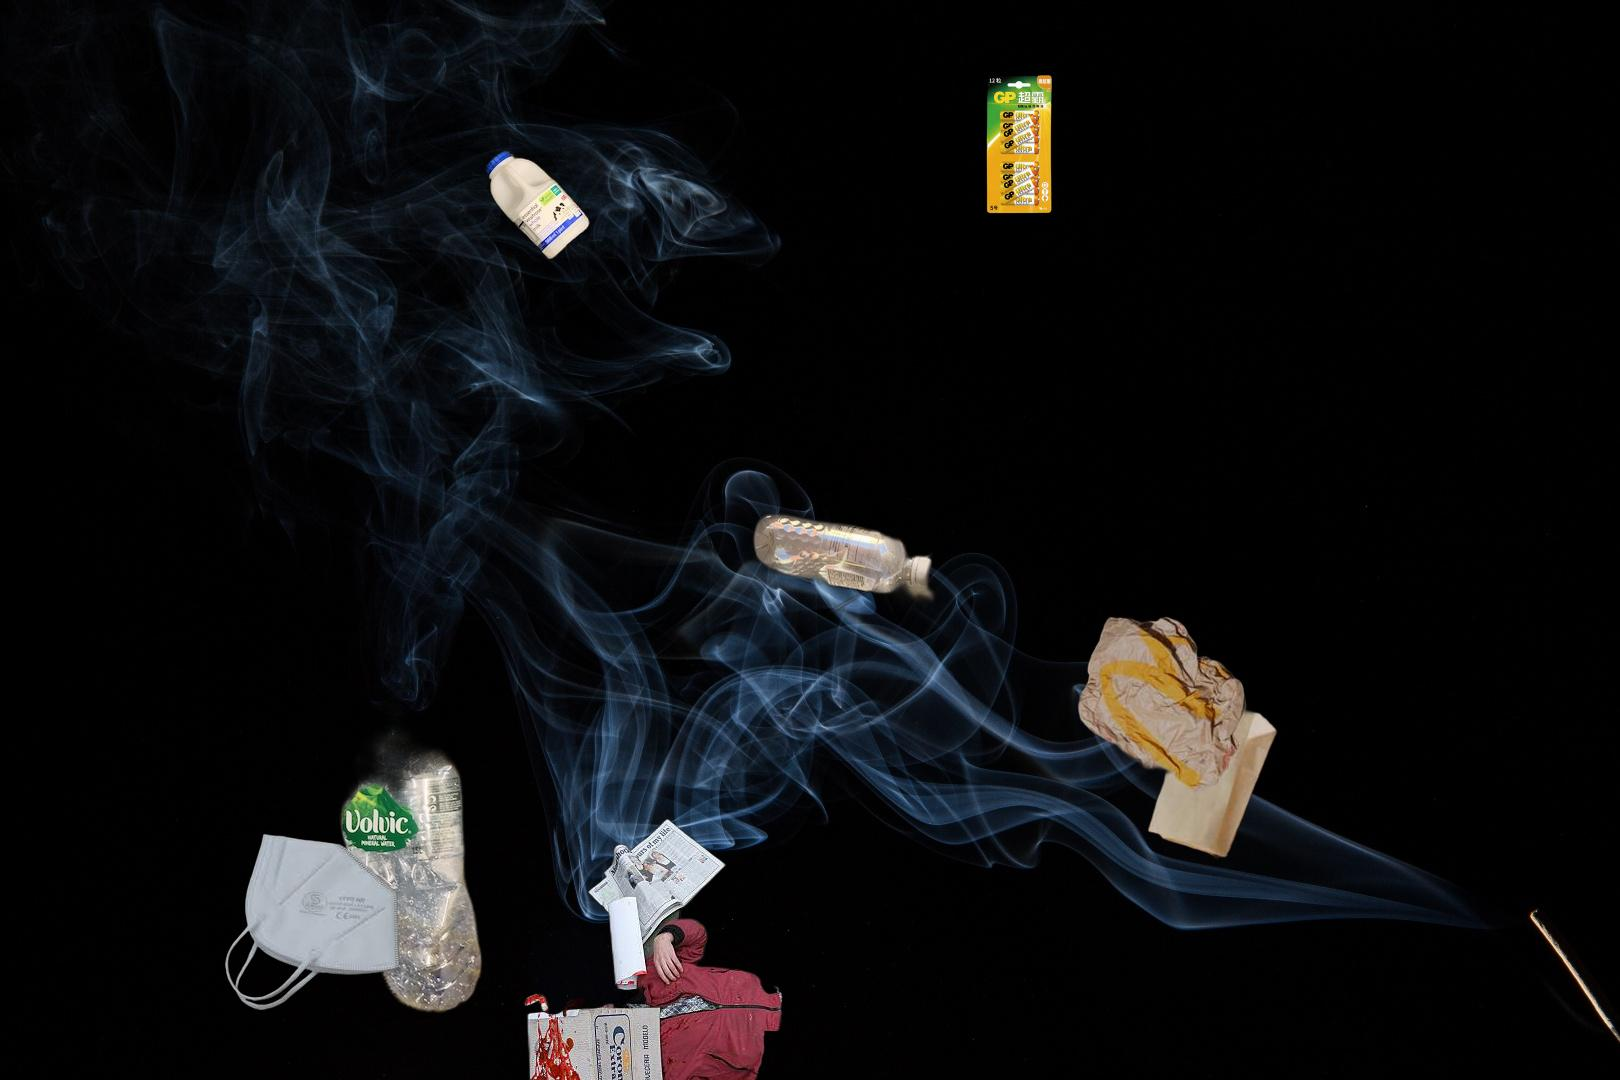battery: (947, 72, 1055, 216)
paper-bag: (1075, 614, 1280, 863)
plastic-bottles: (336, 694, 487, 1019), (749, 507, 943, 626), (481, 147, 594, 263)
trash: (222, 830, 403, 1012)
trashbox-cardboard: (520, 816, 788, 1080)
